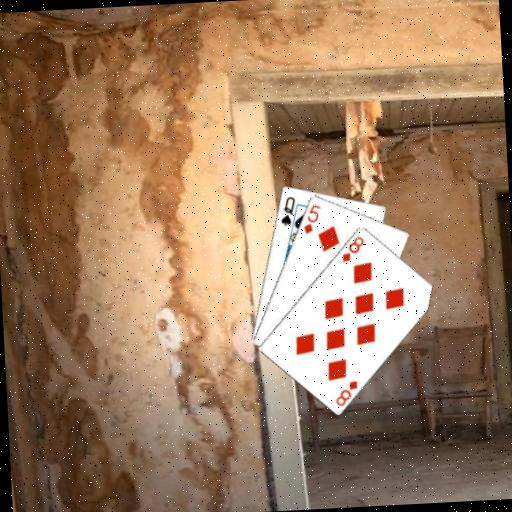5D: (299, 201, 323, 236)
8D: (338, 233, 367, 264), (332, 377, 361, 408)
QS: (276, 193, 298, 228)
